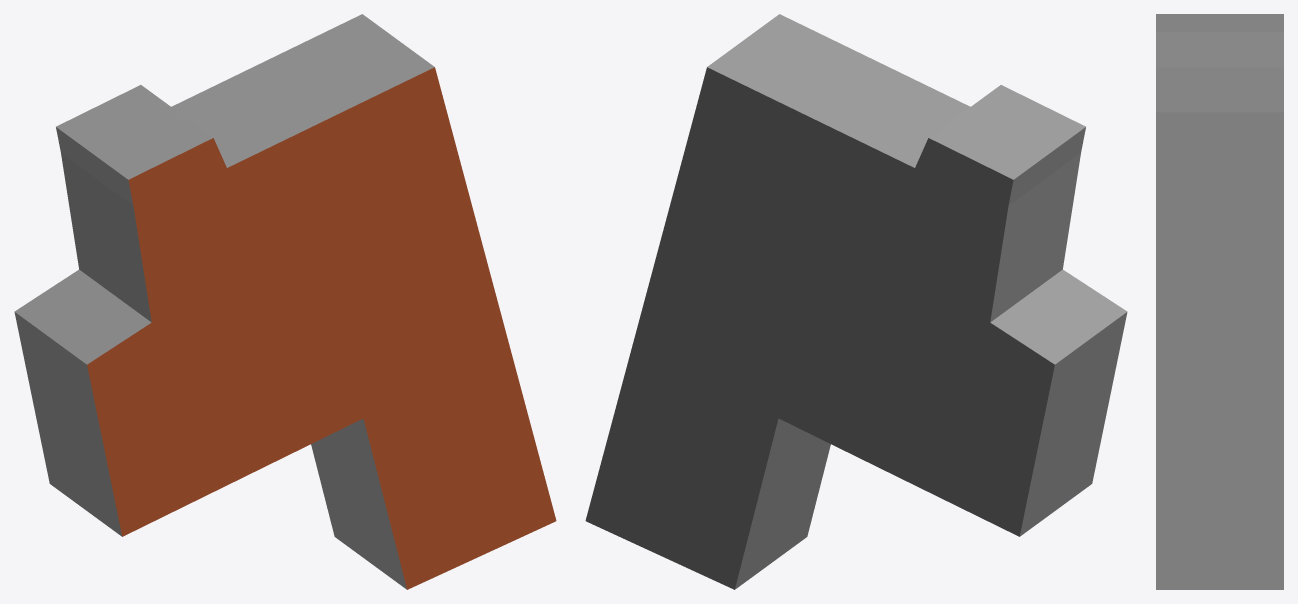
Rendered from construction_0422_assumed_A_Casa_h6m.obj.
3 views of the same model, side by side, from view 1: azimuth 30°, elevation 25°; view 2: azimuth 150°, elevation 25°; view 3: azimuth 270°, elevation 25° (orthographic). The views are drawn at different scales.
Visible parts, largest first — view 1: construction_0422_assumed_A_Casa; view 2: construction_0422_assumed_A_Casa; view 3: construction_0422_assumed_A_Casa.
Boxes of the visible parts, x1,y1,x2,y2 form: construction_0422_assumed_A_Casa: [14, 14, 556, 589]; construction_0422_assumed_A_Casa: [585, 14, 1127, 589]; construction_0422_assumed_A_Casa: [1156, 14, 1283, 589].
Size of the model in its own units: 22.41 by 23.54 by 6.
